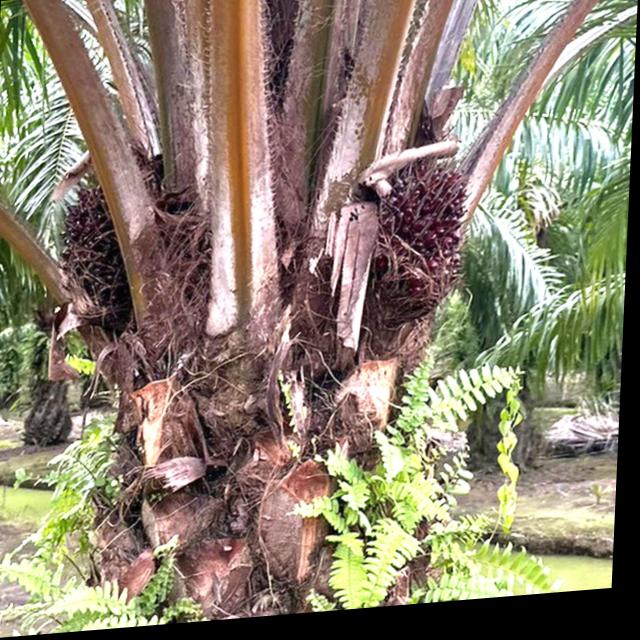ripe: (350, 153, 486, 342)
